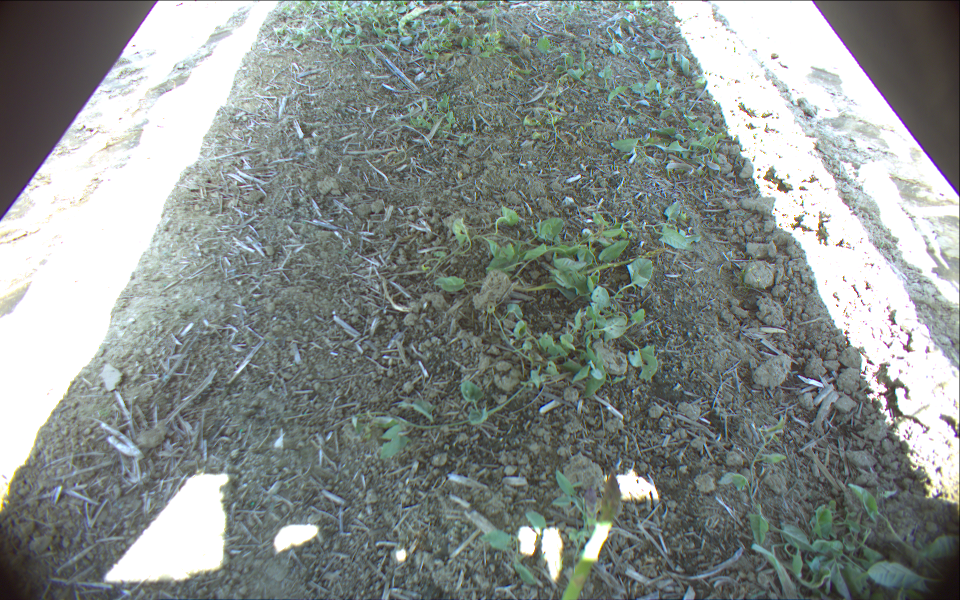aspa: (559, 472, 623, 600), (396, 8, 431, 35)
